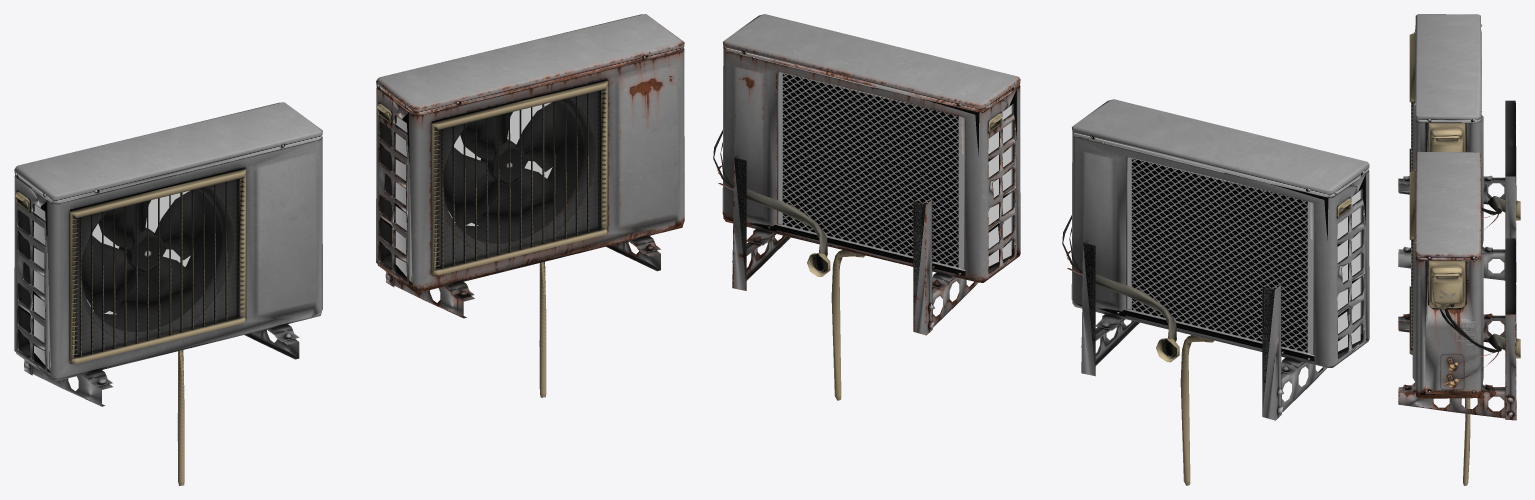
The model's file is sci-fi-courtyard-aircon.collider.glb.
3 views of the same model, side by side, from view 1: azimuth 30°, elevation 25°; view 2: azimuth 150°, elevation 25°; view 3: azimuth 270°, elevation 25° (orthographic). The views are drawn at different scales.
Parts seen in each view (by area): view 1: exterior_aircon_unit_rusted, exterior_aircon_unit; view 2: exterior_aircon_unit_rusted, exterior_aircon_unit; view 3: exterior_aircon_unit_rusted, exterior_aircon_unit.
Part boxes in pixels (x1,y1,x2,y2): exterior_aircon_unit_rusted: (376, 14, 684, 397); exterior_aircon_unit: (14, 102, 322, 485); exterior_aircon_unit_rusted: (713, 14, 1020, 400); exterior_aircon_unit: (1062, 99, 1369, 485); exterior_aircon_unit_rusted: (1398, 151, 1520, 485); exterior_aircon_unit: (1398, 14, 1520, 282).
Bounding box in the file's own units: 1.8 × 0.9279 × 0.3742.
4 materials, 4 textured.
